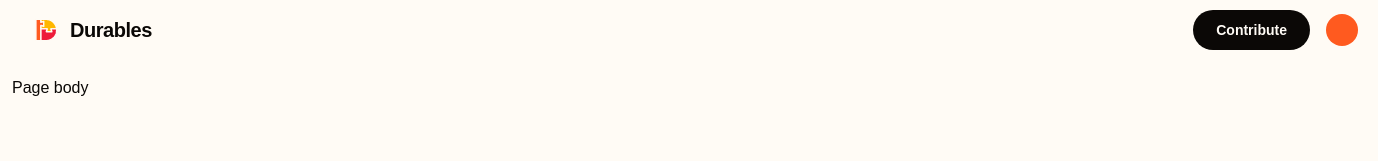
Test: signed in › Your profile opens the profile and closes the menu
Click the button named "Account menu".
click(1342, 30)  # box [1322,10,1362,50]
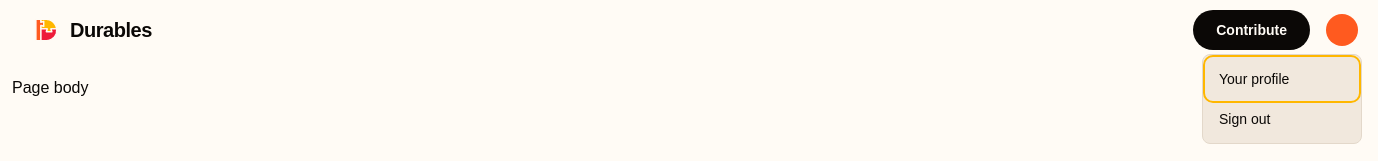
Expected: the menu named "Account" is shown, [1207,59,1357,139]
Click the menu item "Your profile".
click(1254, 78)  # box [1219,70,1289,86]
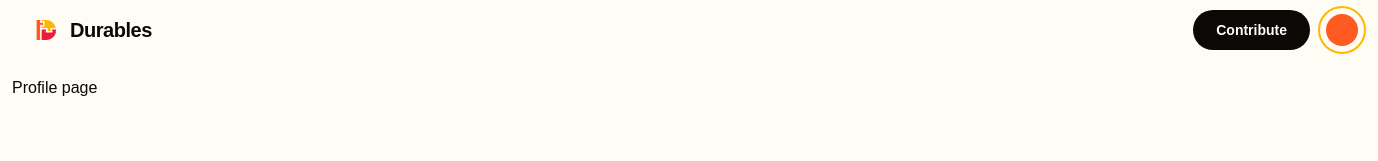
Expected: the text "Profile page" is shown, [12,79,97,96]
Expected: the menu "Account" is gone
